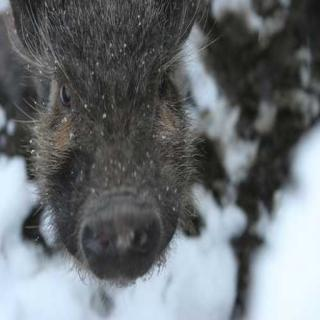Pig: (0, 0, 239, 308)
